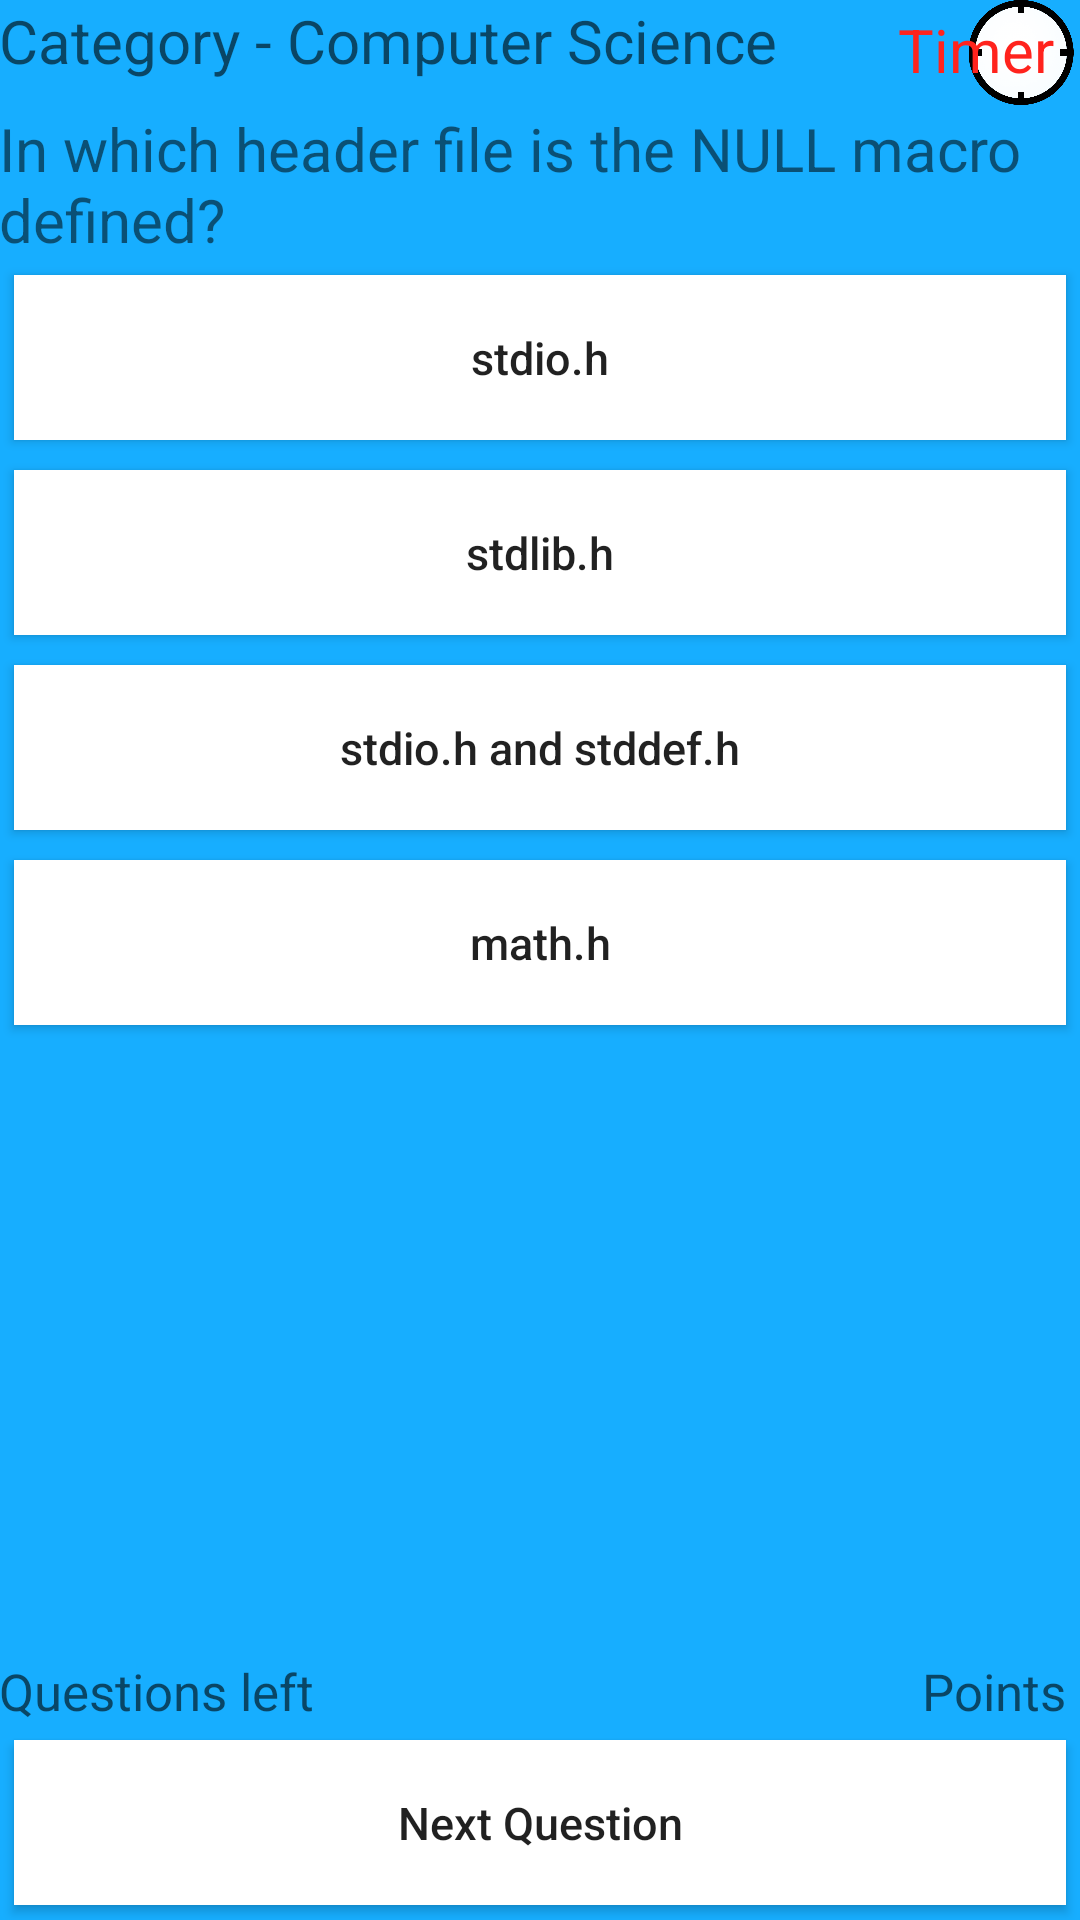

Icons on this 1080w x 1920h Android screen, each with its box as (x1, y1, x2, y2):
clock: (961, 0, 1074, 105)
